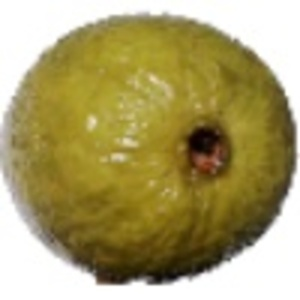goiaba: (5, 9, 296, 278)
